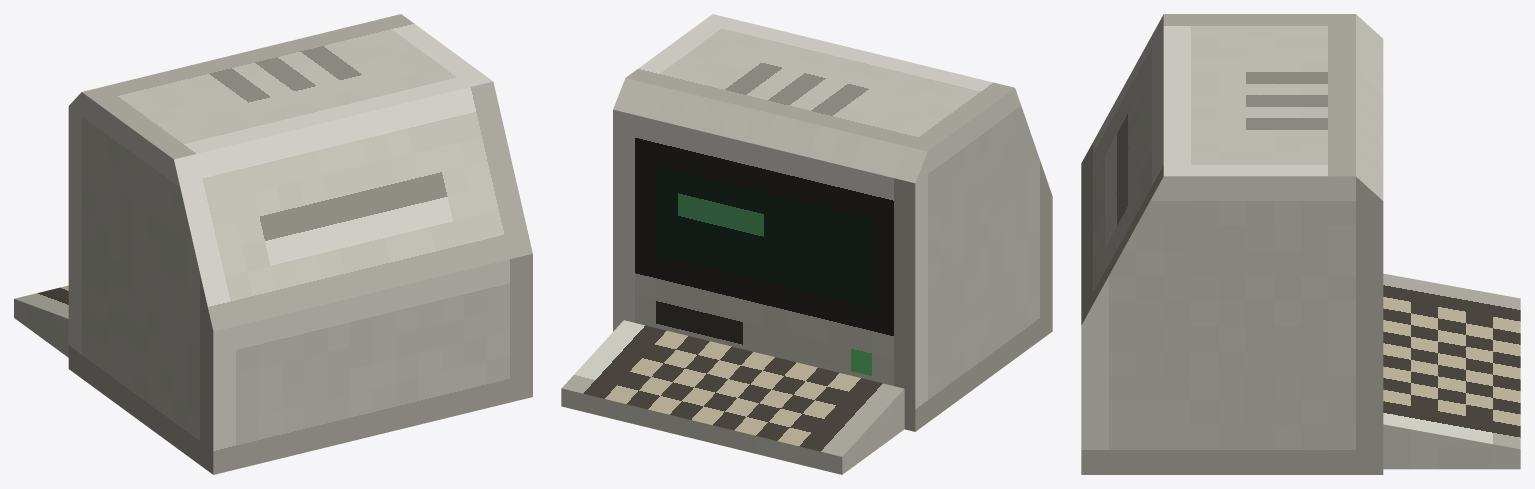
The model's file is era4_vt_terminal.obj.
3 renders of one model, left to right at view 1: azimuth 30°, elevation 25°; view 2: azimuth 150°, elevation 25°; view 3: azimuth 270°, elevation 25°, orthographic. The views are drawn at different scales.
Visible parts, largest first — view 1: era4_vt_terminal; view 2: era4_vt_terminal; view 3: era4_vt_terminal.
Boxes of the visible parts, box(x1,y1,x2,y2) form: era4_vt_terminal: box(14, 14, 532, 474); era4_vt_terminal: box(561, 14, 1052, 474); era4_vt_terminal: box(1081, 14, 1520, 474).
Bounding box in the file's own units: 0.875 × 0.75 × 1.
